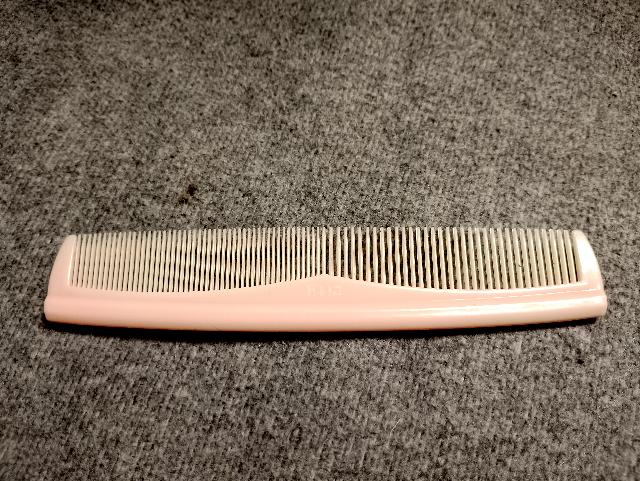hardplastic: (50, 217, 612, 337)
